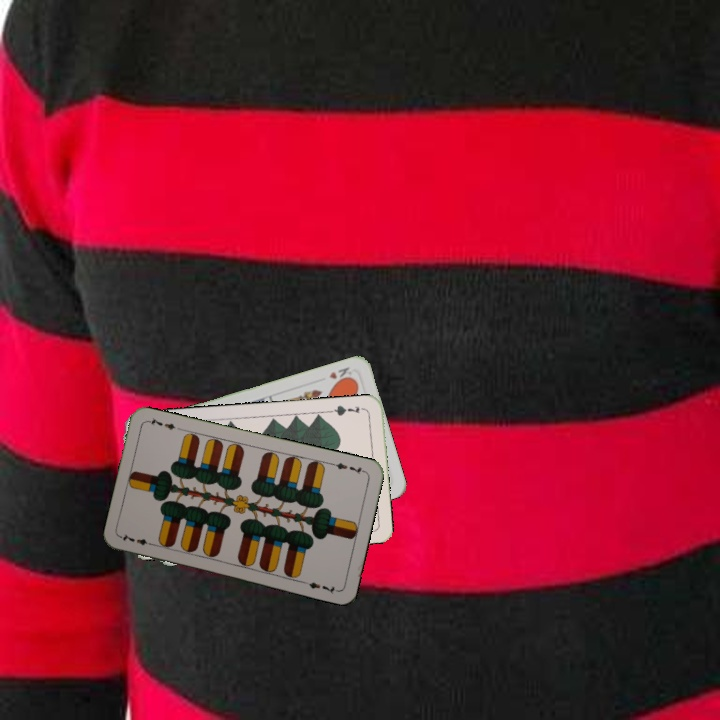E7: (117, 529, 158, 548), (328, 459, 368, 476)
G7: (327, 401, 368, 418)
HK: (325, 363, 355, 386)
